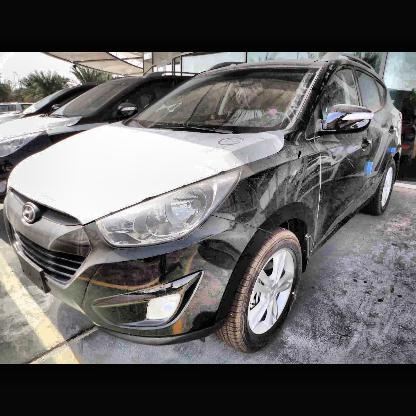Hyundai Tucson SUV 2012: (2, 57, 410, 358)
